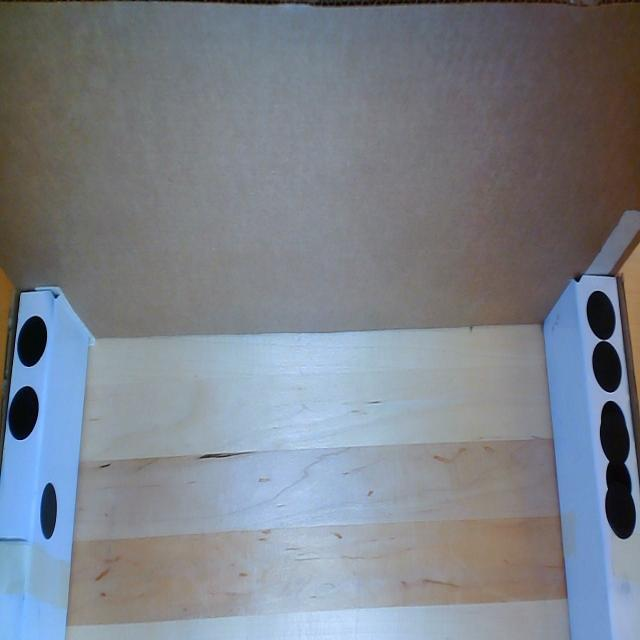Hole: (604, 455, 634, 500), (600, 397, 626, 439)
Sticker: (604, 482, 637, 542), (7, 384, 41, 442), (16, 313, 48, 369), (590, 340, 623, 392), (586, 289, 617, 342), (600, 414, 632, 465), (38, 479, 58, 543)
